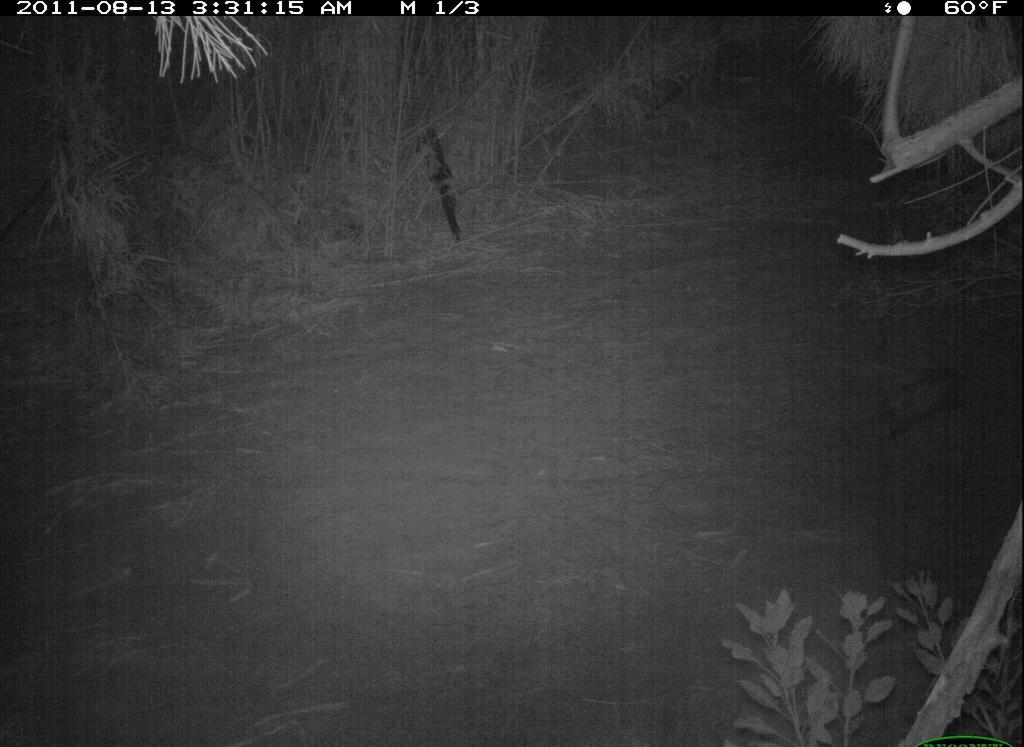opossum: (830, 358, 990, 466)
